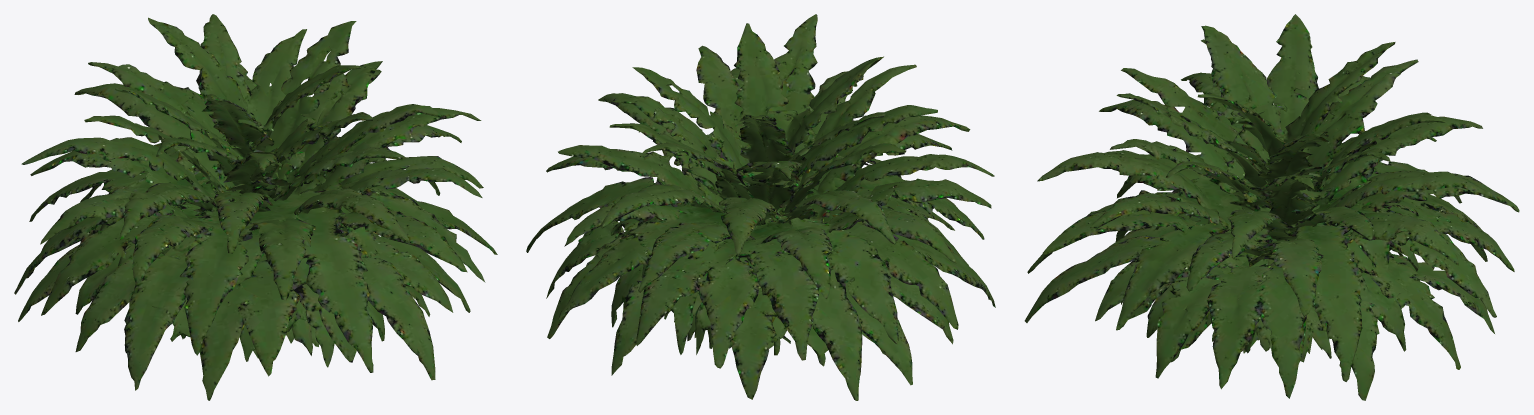
File: fern.glb
The picture shows the model from 3 angles, left to right: view 1: azimuth 30°, elevation 25°; view 2: azimuth 150°, elevation 25°; view 3: azimuth 270°, elevation 25°; orthographic projection. The views are drawn at different scales.
Visible parts, largest first — view 1: geometry_0; view 2: geometry_0; view 3: geometry_0.
Boxes of the visible parts, x1,y1,x2,y2 form: geometry_0: [14, 14, 497, 400]; geometry_0: [526, 14, 995, 400]; geometry_0: [1024, 14, 1519, 400].
Bounding box in the file's own units: 0.9518 × 0.598 × 0.9932.
Materials: 1 (1 with a texture image).
